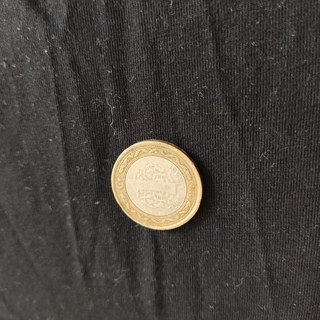1TL: (109, 138, 205, 231)
